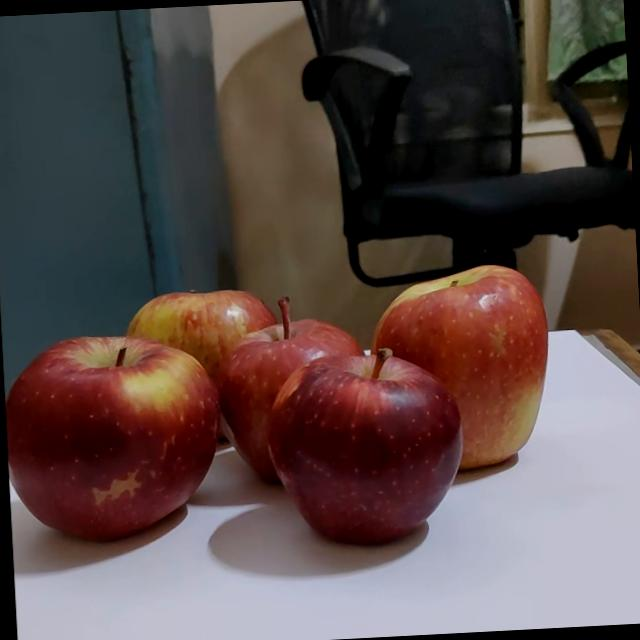apple: (0, 319, 238, 546), (264, 332, 484, 550), (358, 251, 560, 472), (205, 278, 376, 488), (110, 284, 286, 443)
